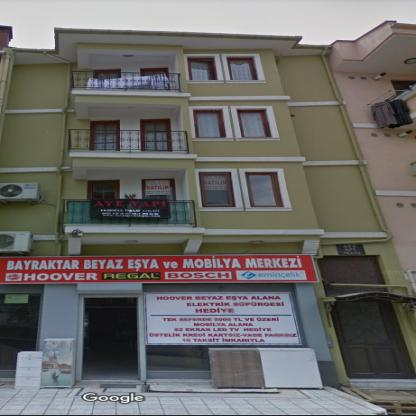door: (332, 302, 410, 379), (3, 294, 38, 371)
window: (247, 174, 277, 206), (202, 175, 230, 206), (238, 111, 265, 137), (144, 121, 168, 150), (92, 123, 116, 151), (197, 112, 222, 137), (189, 58, 217, 80), (146, 180, 174, 200), (229, 58, 254, 80), (92, 182, 115, 198), (97, 72, 119, 78), (144, 71, 165, 76)
